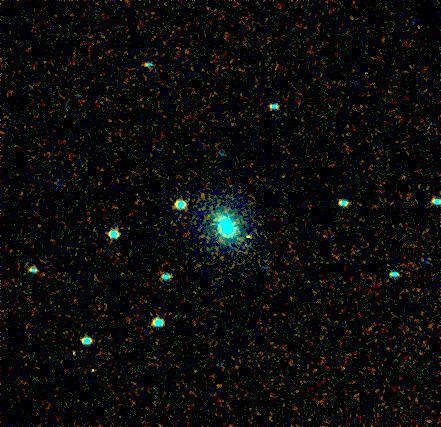star: (233, 221, 263, 251)
